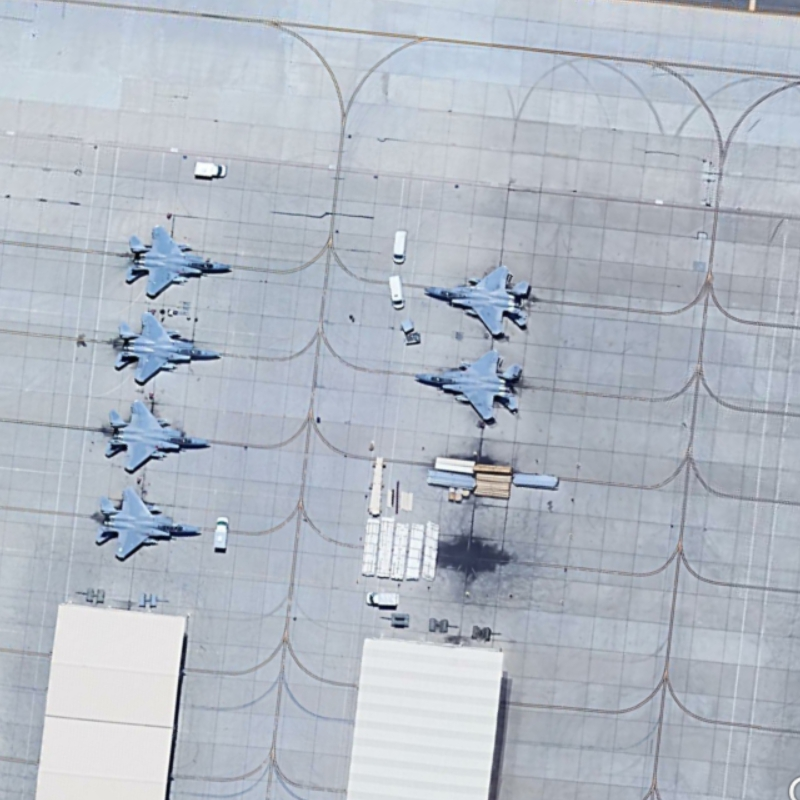A13: (82, 478, 212, 564), (415, 258, 541, 346), (408, 342, 531, 432), (114, 219, 242, 305), (97, 394, 218, 478), (104, 307, 224, 390)
